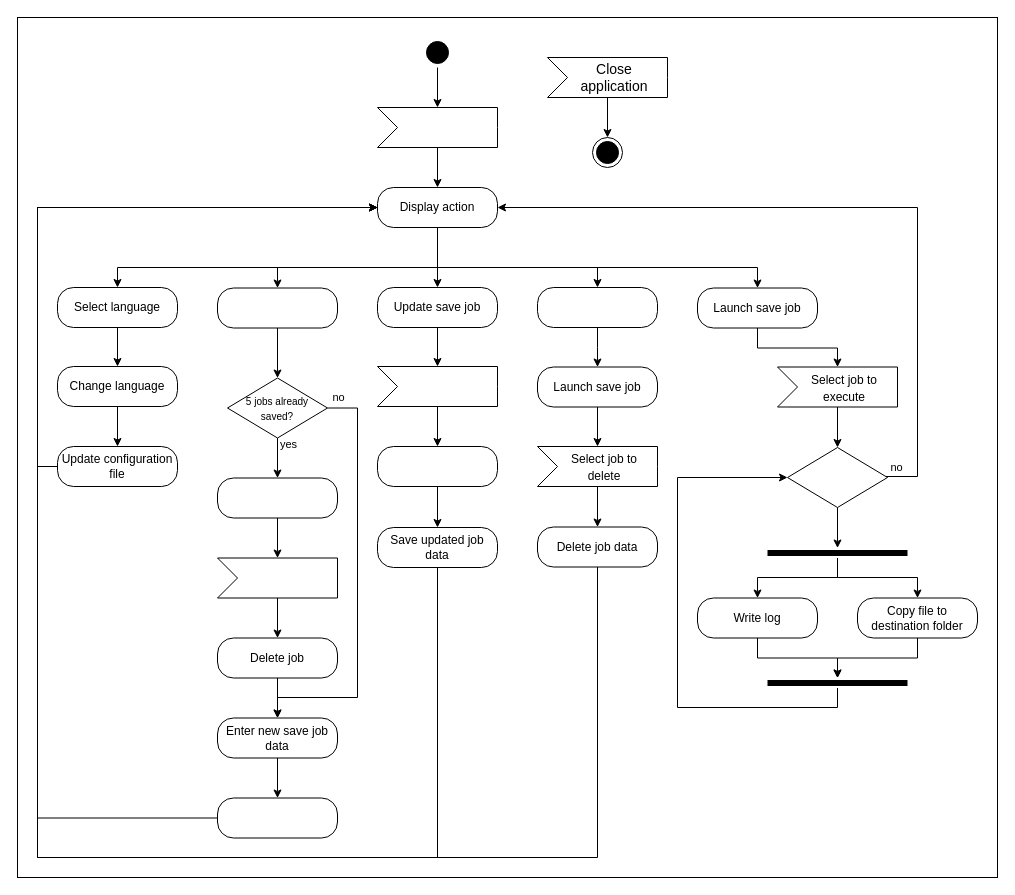
This 1015x895 diagram has some shape labels left out. The box of each missing label's shape, as (x1, y1, x2, y2) in pixels:
Ask which job to overwrite: (216, 477, 338, 518)
Create save job: (216, 287, 338, 328)
Delete save job: (536, 286, 658, 328)
Enter job number: (216, 557, 338, 598)
job_done < job_to_do ?: (786, 446, 888, 508)
Launch application: (376, 106, 498, 148)
Save new job: (216, 797, 338, 838)
Select job to update: (376, 366, 498, 406)
Update job data: (376, 446, 498, 486)
